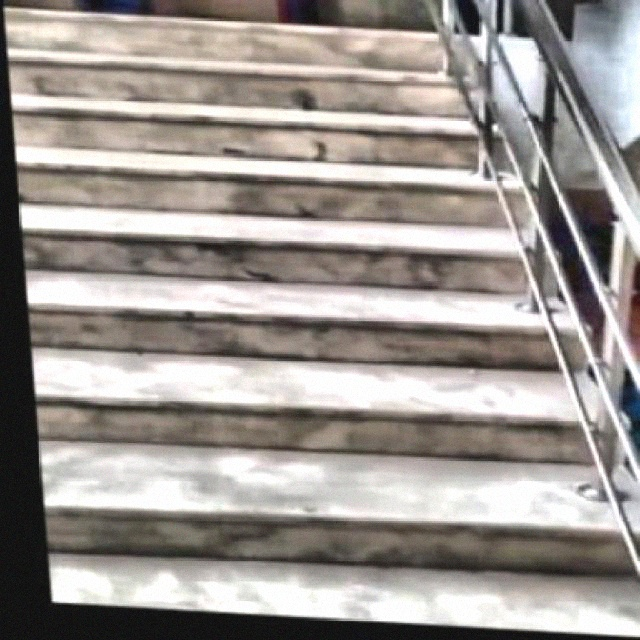stair: (5, 4, 559, 633)
